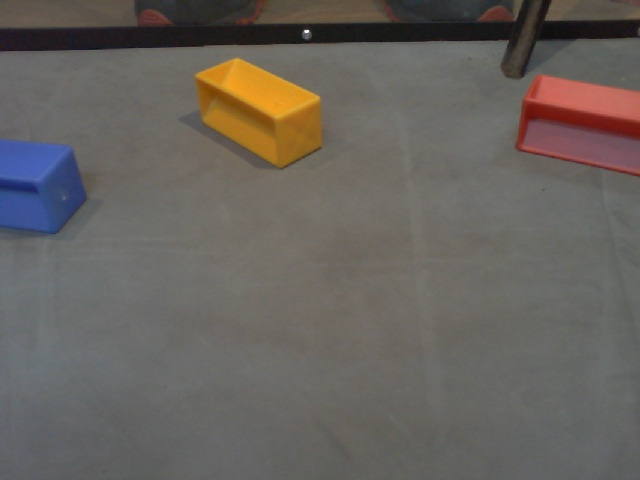BlueSample: (1, 132, 92, 239)
RedSample: (515, 72, 639, 180)
YellowSample: (192, 51, 328, 176)
